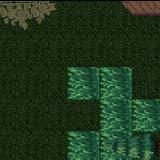Obstacle: (132, 130, 160, 160)
Slow: (68, 66, 132, 98), (66, 130, 132, 160), (100, 99, 160, 130)
